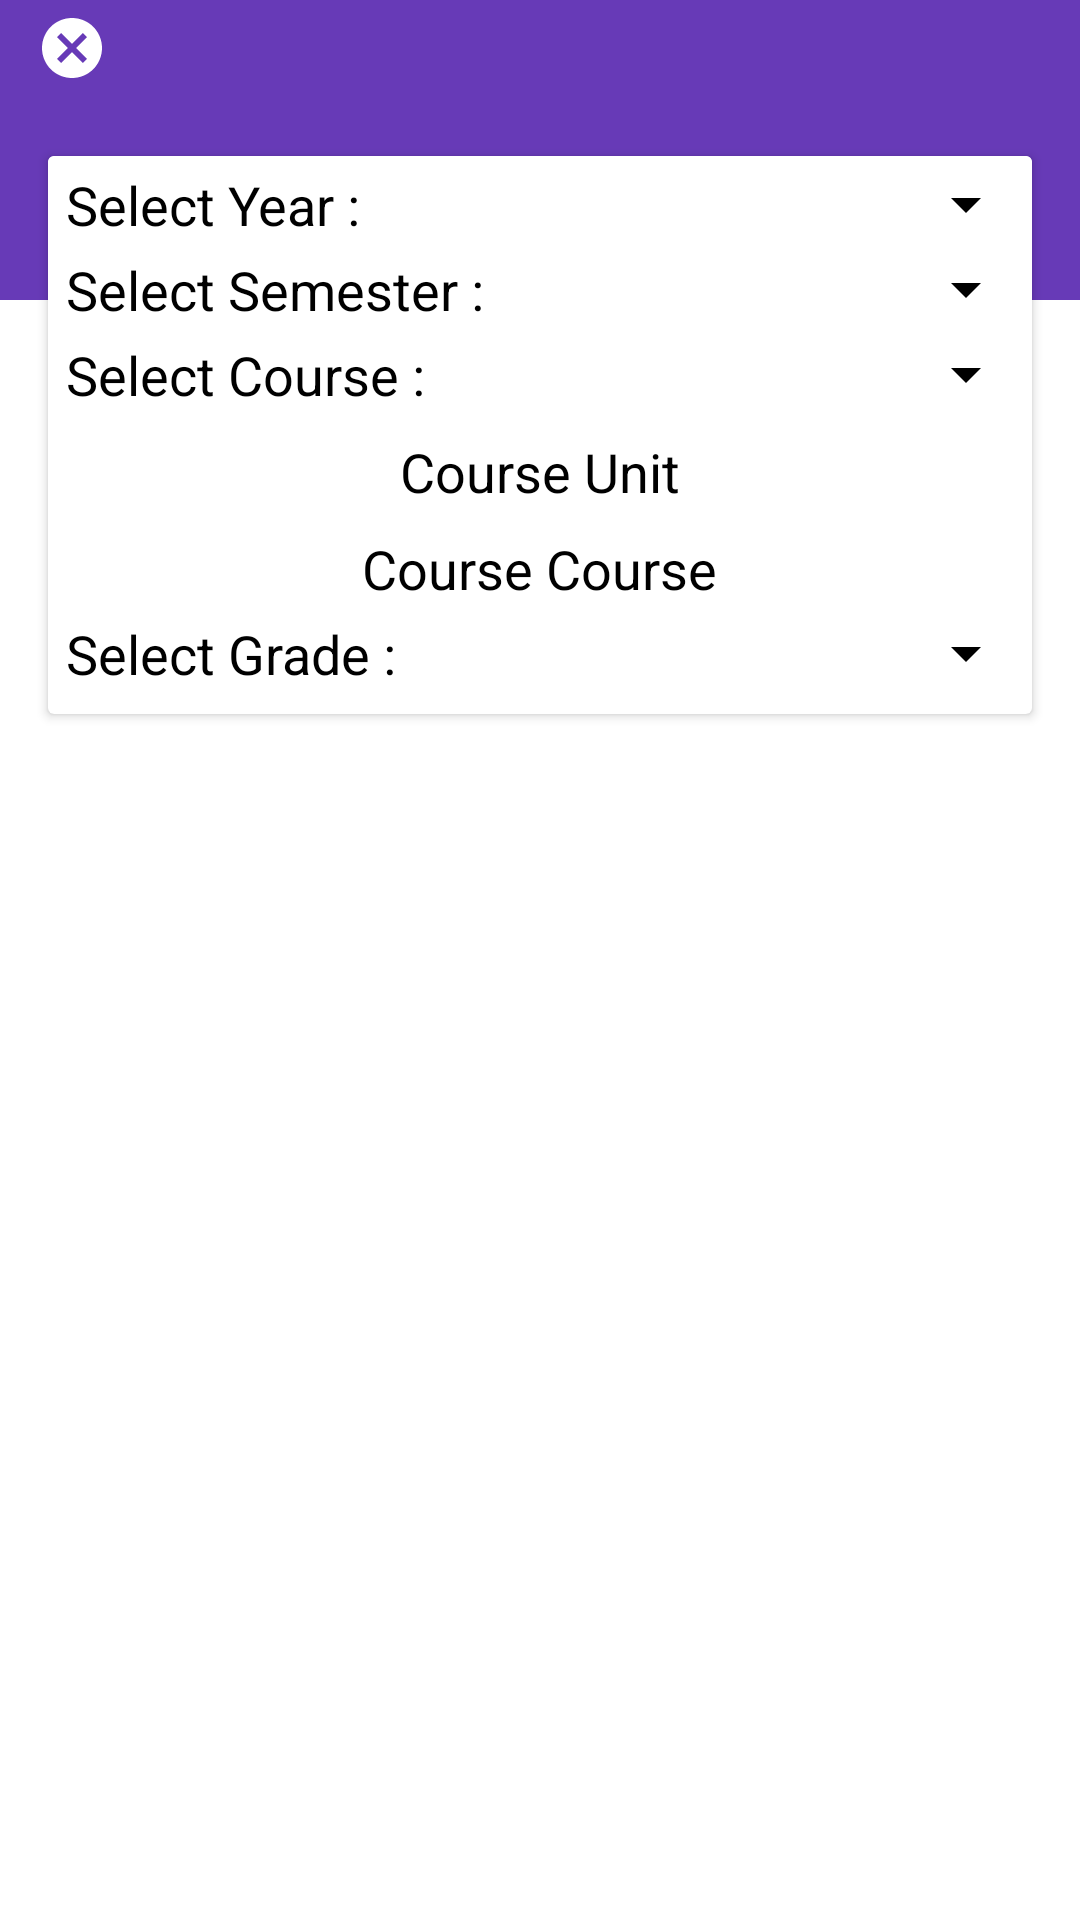

Named icons in this screenshot (1080px×1920px) and their centers, [x,y]:
cancel: [72,48]
